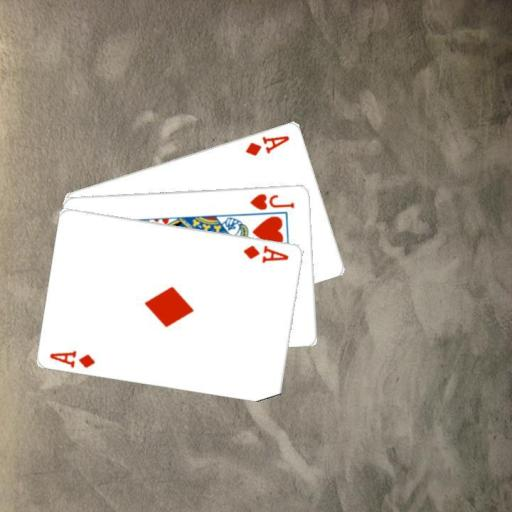AD: (243, 132, 292, 157), (47, 346, 97, 370), (240, 242, 290, 265)
JH: (247, 190, 296, 211)
